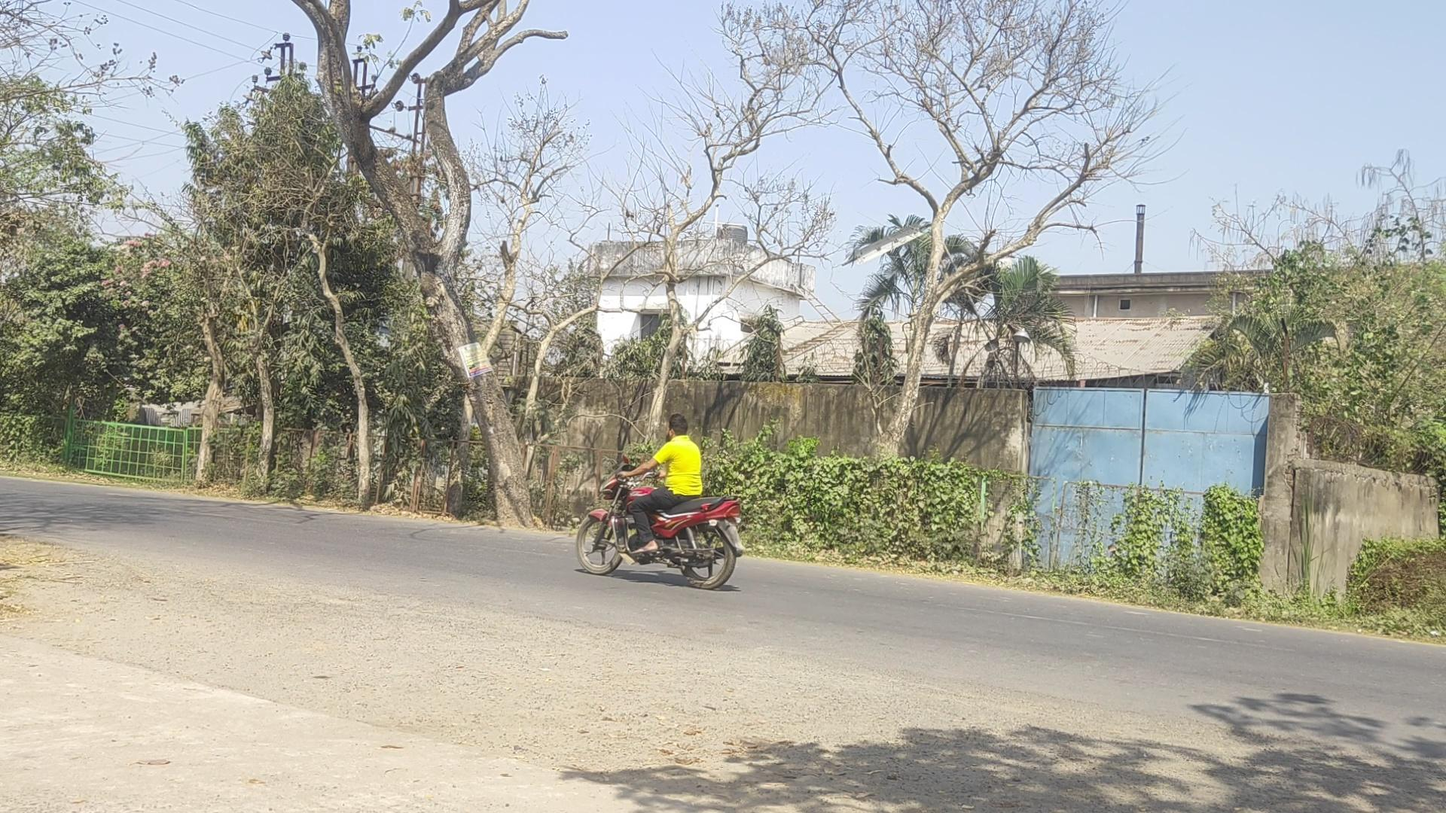bike: (576, 413, 745, 589)
